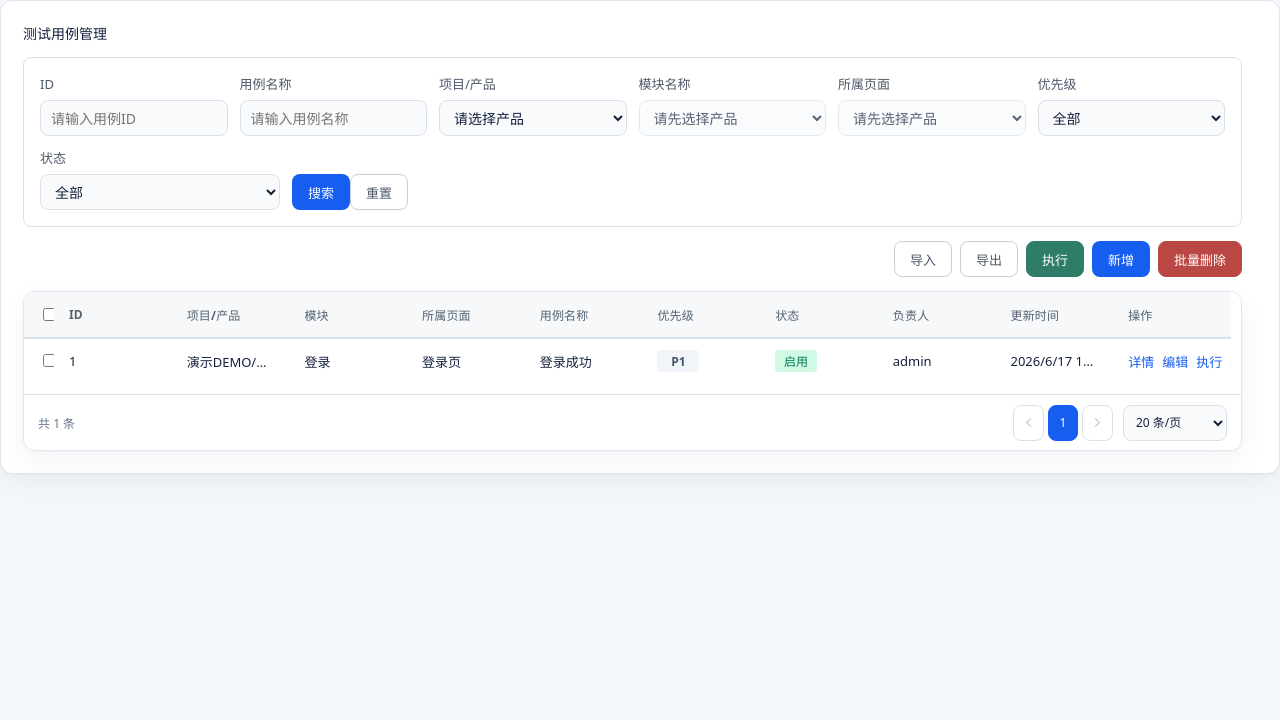
Scenario: UIAutomationPage 测试用例页 › 执行器未启动时阻止执行并显示 Toast
The image size is (1280, 720).
Check: the text "登录成功" is shown, box [525, 338, 642, 384]
Click the button with aria-label "执行用例 登录成功": (1209,361) [1196, 343, 1222, 379]
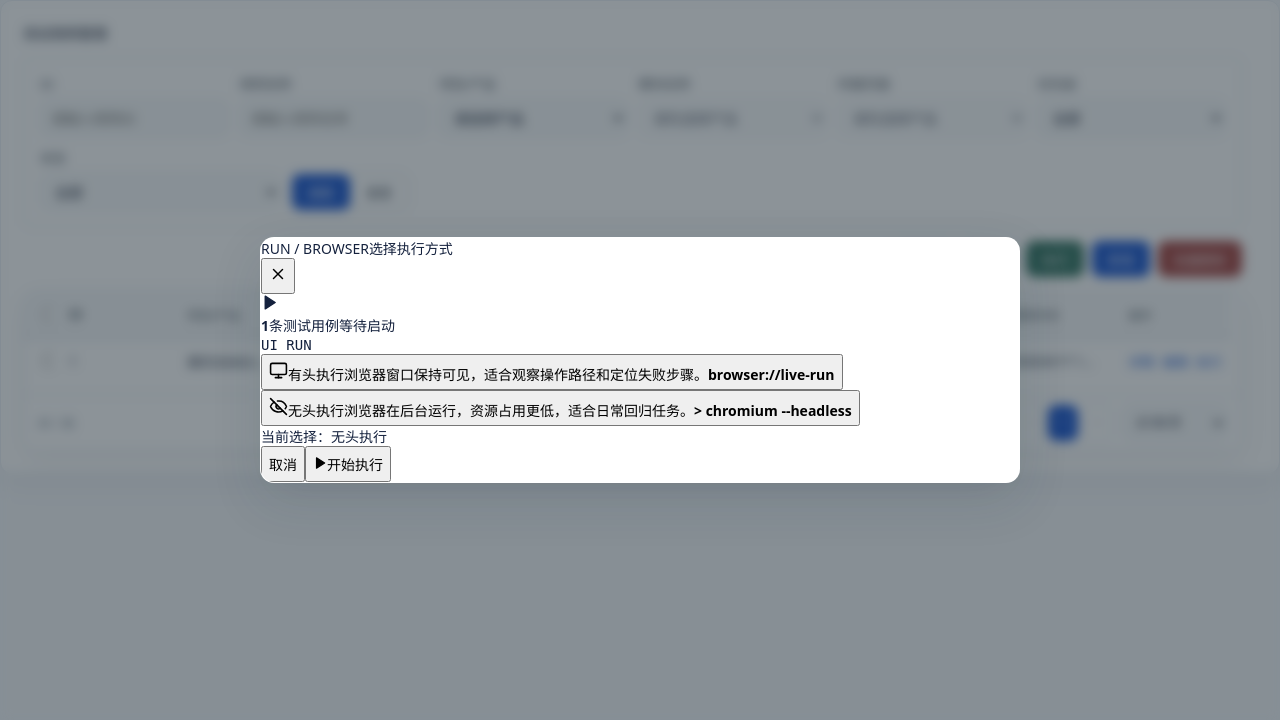
Click the button "开始执行": (348,464) [305, 446, 391, 482]
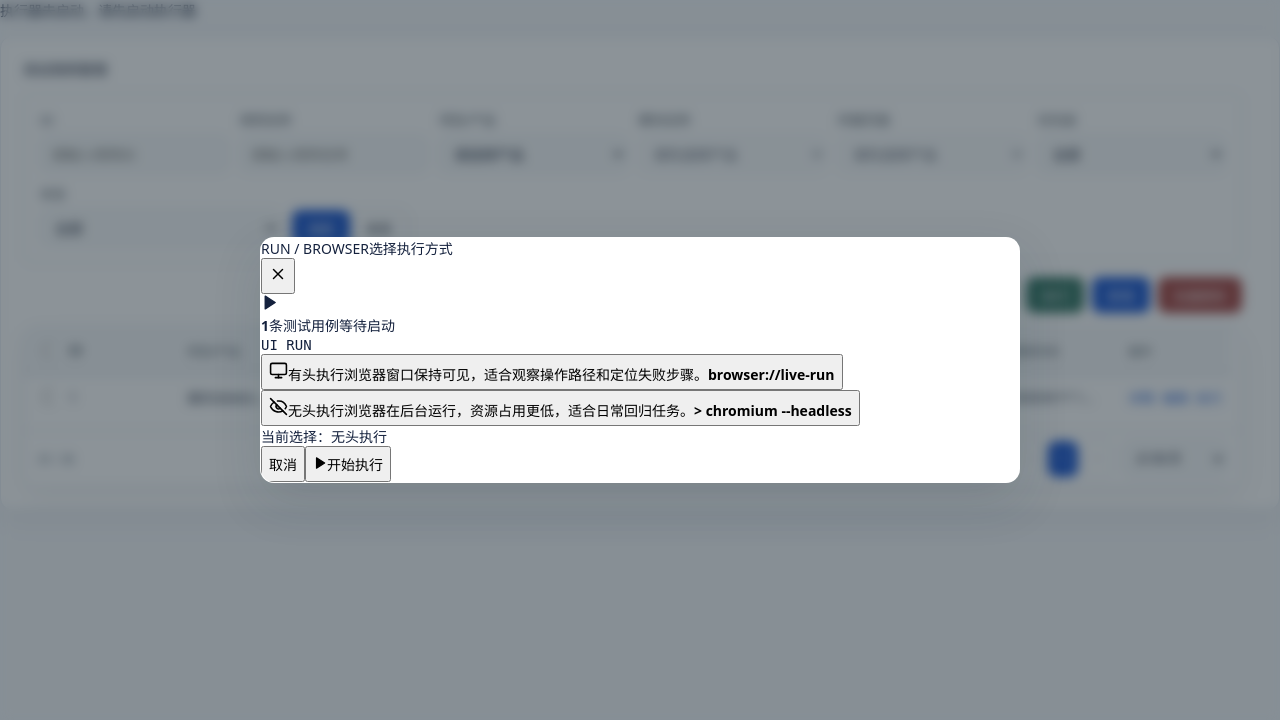
Check: the message reads "执行器未启动，请先启动执行器", box [0, 1, 196, 20]
